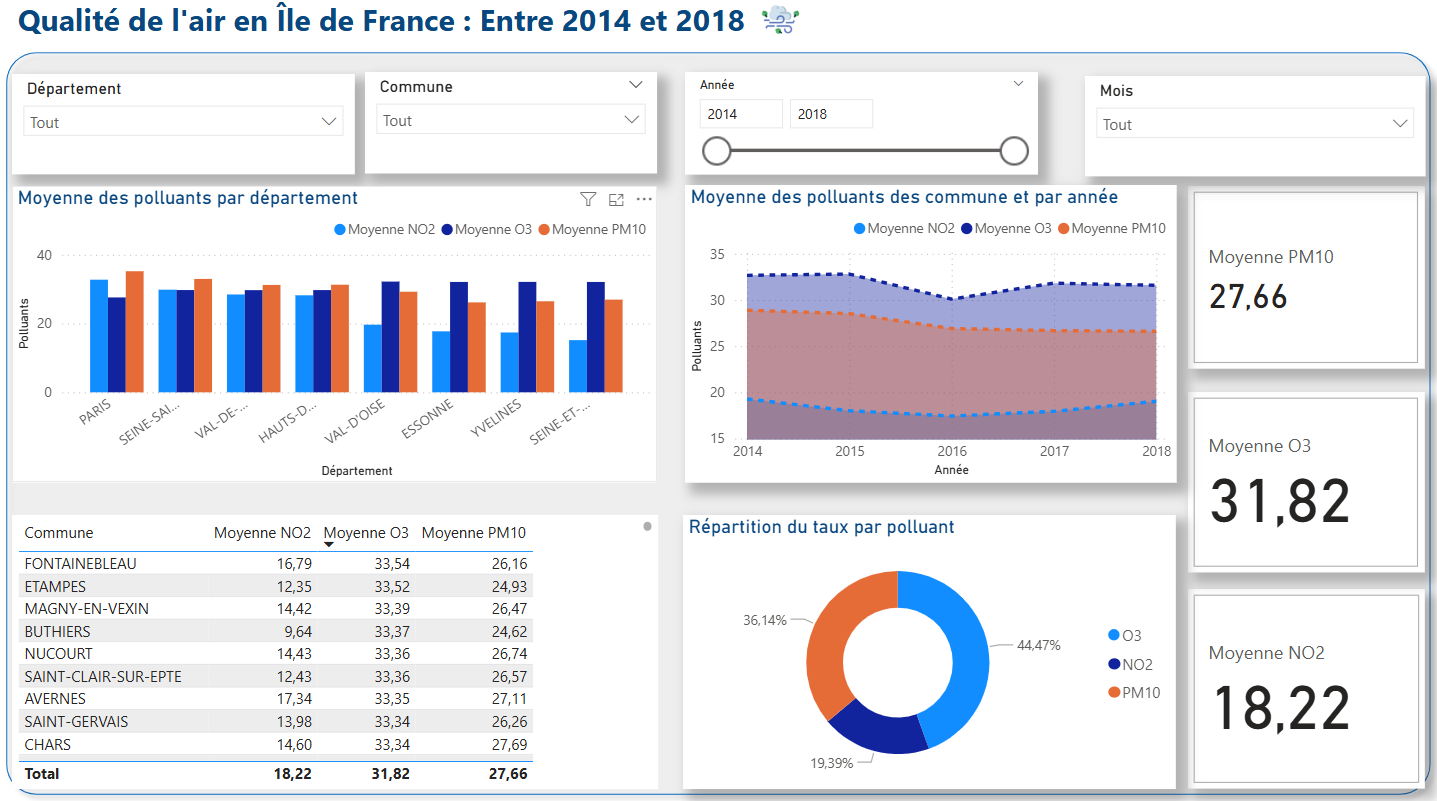

The page's visual inventory and layout, read from the dashboard file:
{"tool":"powerbi","page":{"name":"Page 1","canvas":[1280,720],"ordinal":0},"visuals":[{"type":"shape","box":[0,43.2,1281.4,676.7],"z":0},{"type":"cardVisual","fields":{"Data":["Mesures.Moyenne NO2 par Commune"]},"box":[1056.9,528.5,210.1,177.3],"z":1000},{"type":"cardVisual","fields":{"Data":["Mesures.Moyenne O3 par Commune"]},"box":[1057.2,353.8,209.8,160.4],"z":2000},{"type":"cardVisual","fields":{"Data":["Mesures.Moyenne PM10 par Commune"]},"box":[1057.2,170.9,209.8,162.5],"z":3000},{"type":"slicer","fields":{"Values":["pollution_population.annee"]},"box":[610.8,70,313.4,90.7],"z":4000},{"type":"slicer","fields":{"Values":["public pollution_population.mois.1"]},"box":[965.5,73.2,302.2,89.1],"z":5000},{"type":"slicer","fields":{"Values":["pollution_population.nom_departement"]},"box":[14.3,71.6,303.8,89.1],"z":6000},{"type":"slicer","fields":{"Values":["pollution_population.nom_commune"]},"box":[327,70.1,259.2,90.5],"z":7000},{"type":"areaChart","title":"Moyenne des polluants des commune et par année","fields":{"Category":["pollution_population.annee"],"Y":["Mesures.Moyenne NO2 par Commune","Mesures.Moyenne O3 par Commune","Mesures.Moyenne PM10 par Commune"]},"box":[610.8,170.2,435.8,264],"z":8000},{"type":"donutChart","title":"Répartition du taux par polluant","fields":{"Y":["Sum(pollution_population.taux_pollution_habitant_o3)","Sum(pollution_population.taux_pollution_habitant_no2)","Sum(pollution_population.taux_pollution_habitant_mp10)"]},"box":[609.2,462.9,437.4,243.4],"z":9000},{"type":"textbox","box":[14.3,0,1253.4,47.7],"z":10000},{"type":"tableEx","fields":{"Values":["pollution_population.nom_commune","Mesures.Moyenne NO2 par Commune","Mesures.Moyenne O3 par Commune","Mesures.Moyenne PM10 par Commune"]},"box":[14.3,462.9,572.6,243.4],"z":11000},{"type":"image","box":[656.1,0,78.2,47.3],"z":12000},{"type":"clusteredColumnChart","title":"Moyenne des polluants par département","fields":{"Y":["Mesures.Moyenne NO2 par Commune","Mesures.Moyenne O3 par Commune","Mesures.Moyenne PM10 par Commune"],"Category":["pollution_population.nom_departement"]},"box":[14.4,170.7,571.8,263.3],"z":13000}]}

Visuals, with their boxes in screenshot pixels (x1, y1, x2, y2), scaled from the page's 1280x720 canvas onto the 1437x801 screenshot:
shape: (left=0, top=48, right=1436, bottom=800)
cardVisual - Mesures.Moyenne NO2 par Commune: (left=1187, top=588, right=1422, bottom=785)
cardVisual - Mesures.Moyenne O3 par Commune: (left=1187, top=394, right=1422, bottom=572)
cardVisual - Mesures.Moyenne PM10 par Commune: (left=1187, top=190, right=1422, bottom=371)
slicer - pollution_population.annee: (left=686, top=78, right=1038, bottom=179)
slicer - public pollution_population.mois.1: (left=1084, top=81, right=1423, bottom=181)
slicer - pollution_population.nom_departement: (left=16, top=80, right=357, bottom=179)
slicer - pollution_population.nom_commune: (left=367, top=78, right=658, bottom=179)
"Moyenne des polluants des commune et par année" areaChart: (left=686, top=189, right=1175, bottom=483)
"Répartition du taux par polluant" donutChart: (left=684, top=515, right=1175, bottom=786)
textbox: (left=16, top=0, right=1423, bottom=53)
tableEx - pollution_population.nom_commune x Mesures.Moyenne NO2 par Commune: (left=16, top=515, right=659, bottom=786)
image: (left=737, top=0, right=824, bottom=53)
"Moyenne des polluants par département" clusteredColumnChart: (left=16, top=190, right=658, bottom=483)
